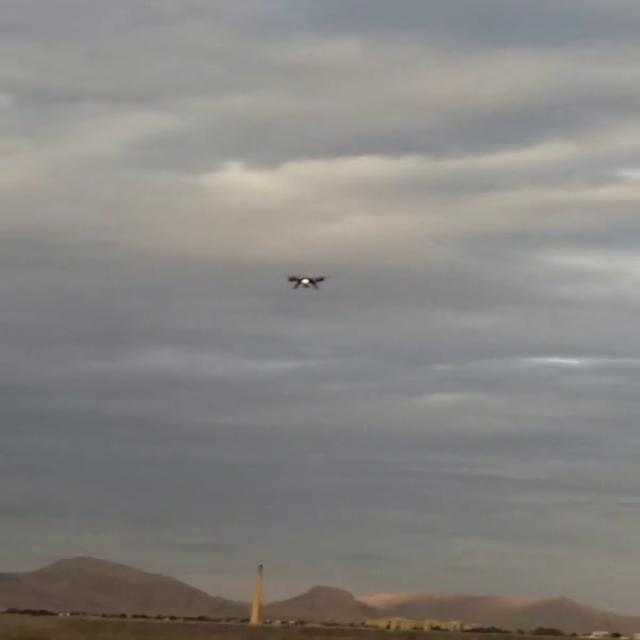drone: (282, 268, 332, 294)
